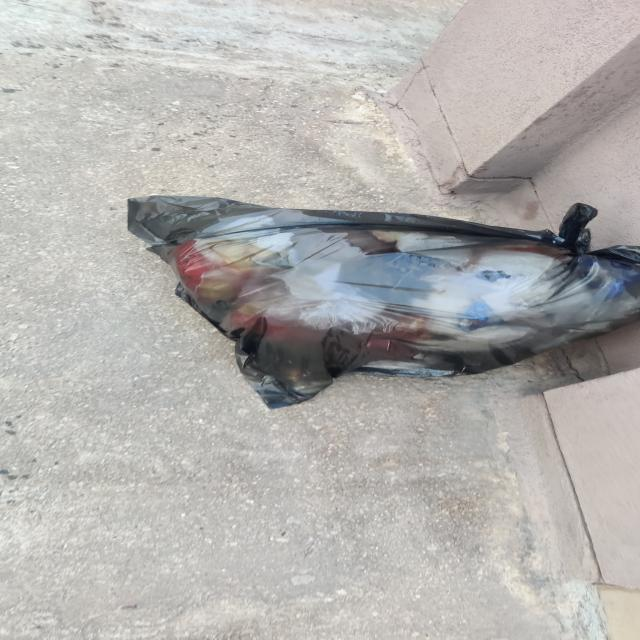Mixed Waste -Black Bags-: (119, 195, 640, 410)
